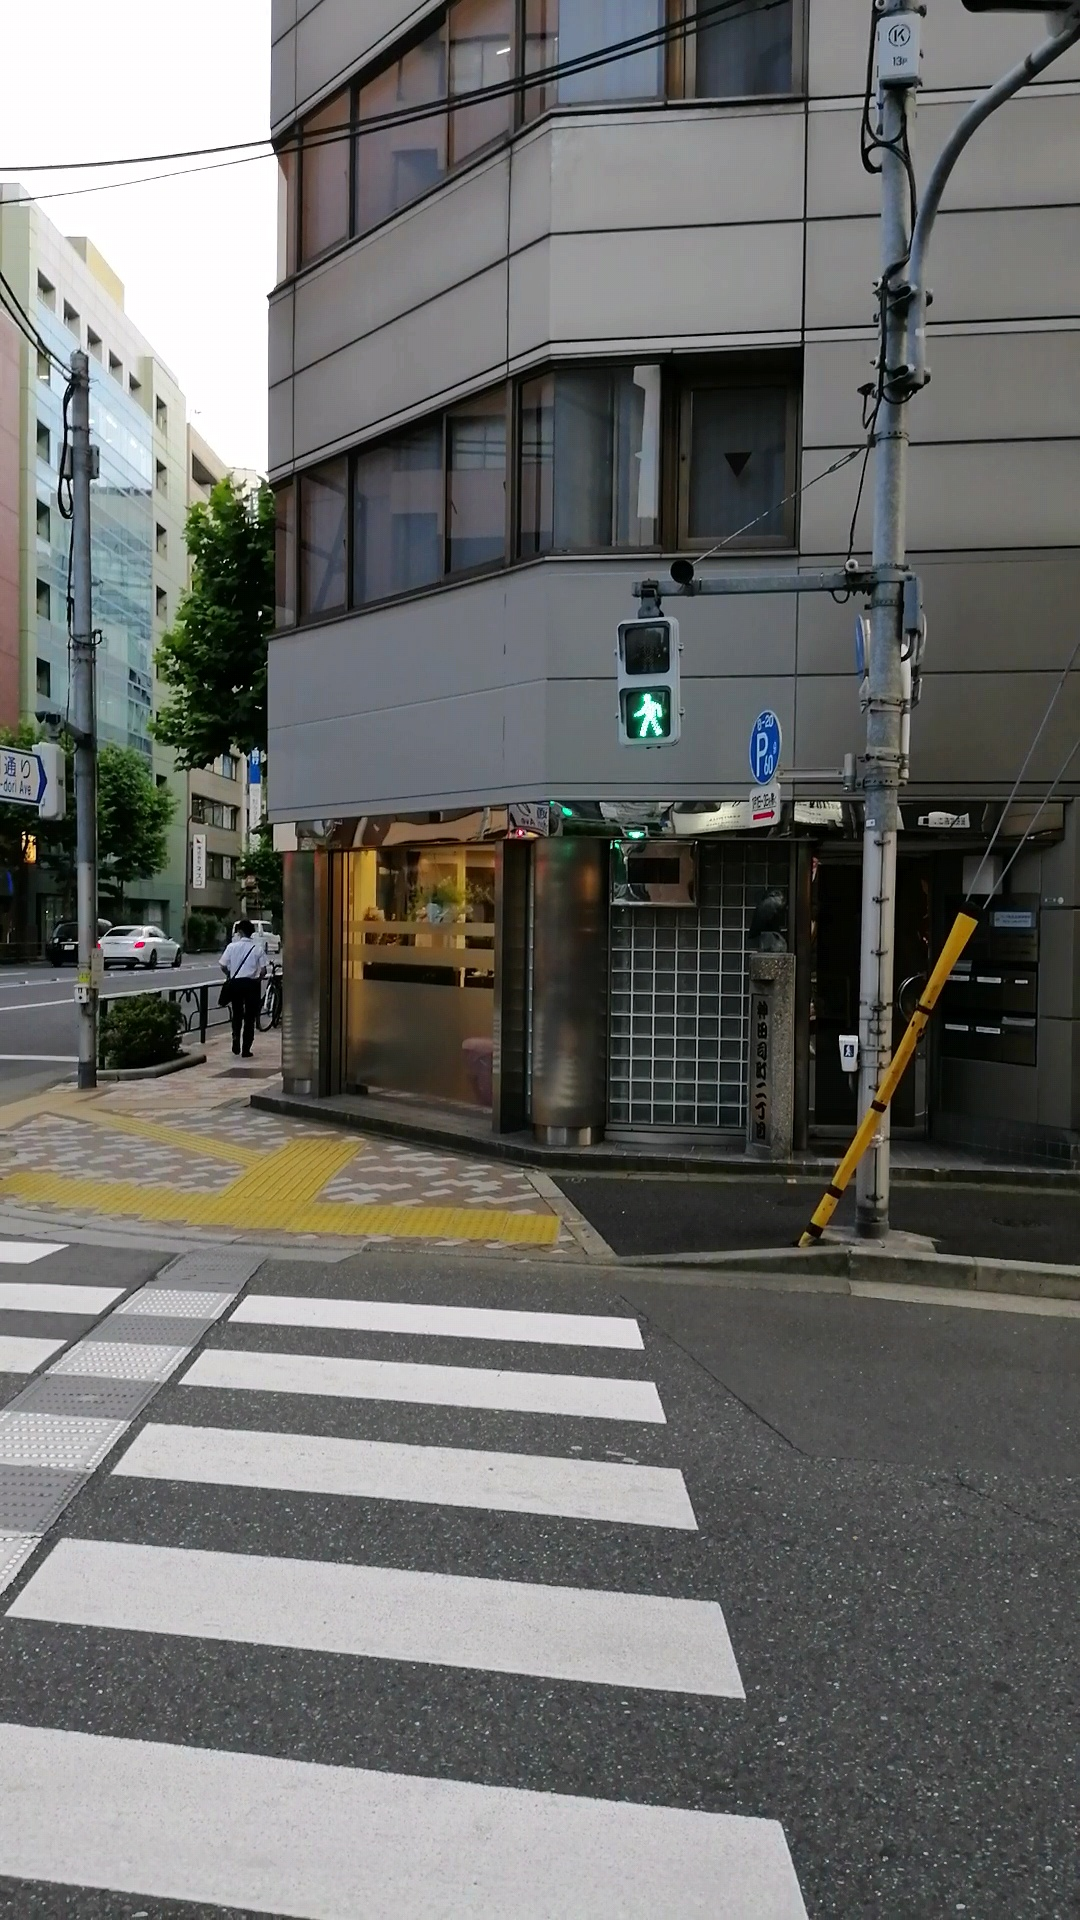green: (616, 617, 680, 745)
